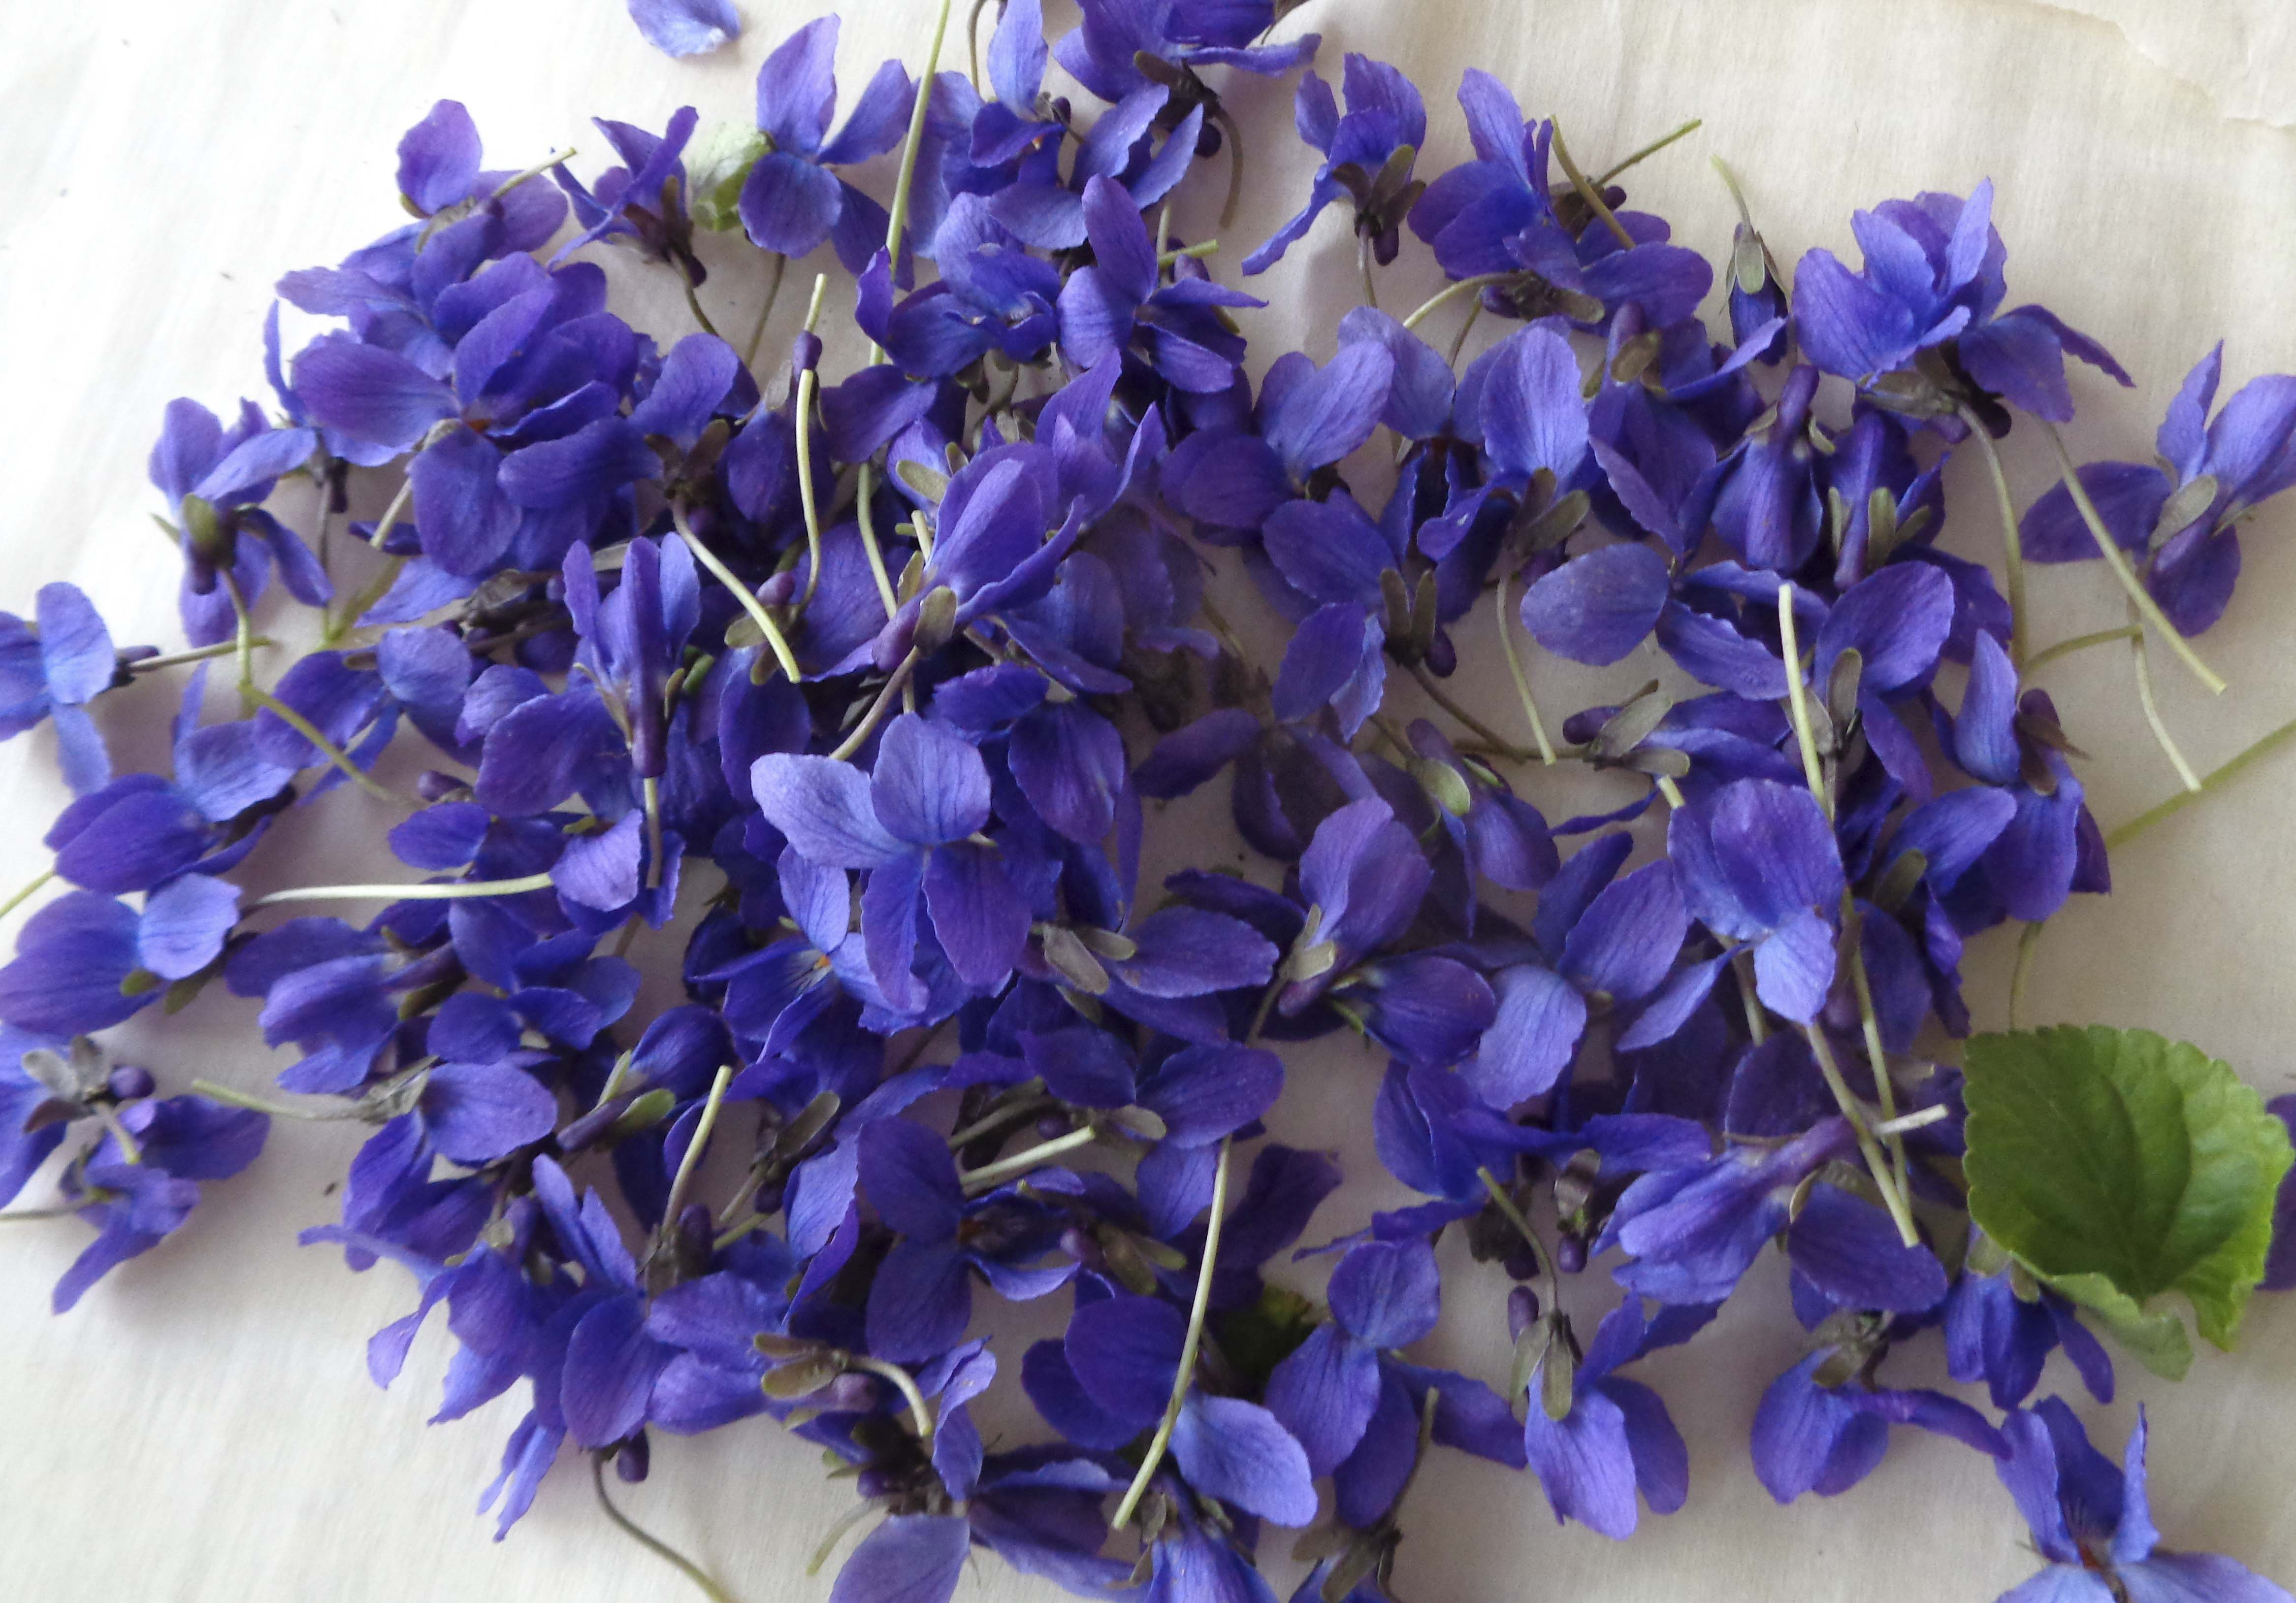violet: (31, 106, 2296, 1563)
